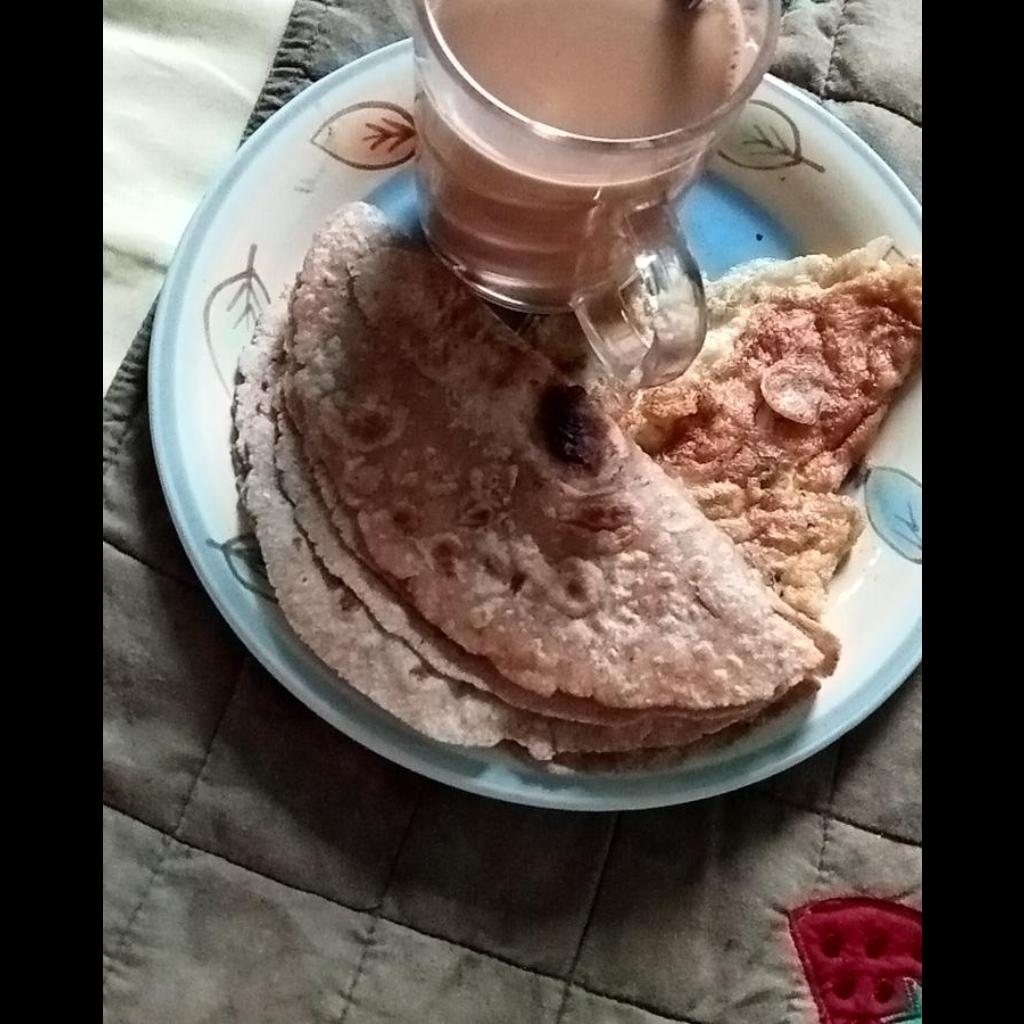cha: (442, 0, 740, 140)
egg-poached: (602, 238, 915, 607)
ruti: (224, 198, 833, 756)
